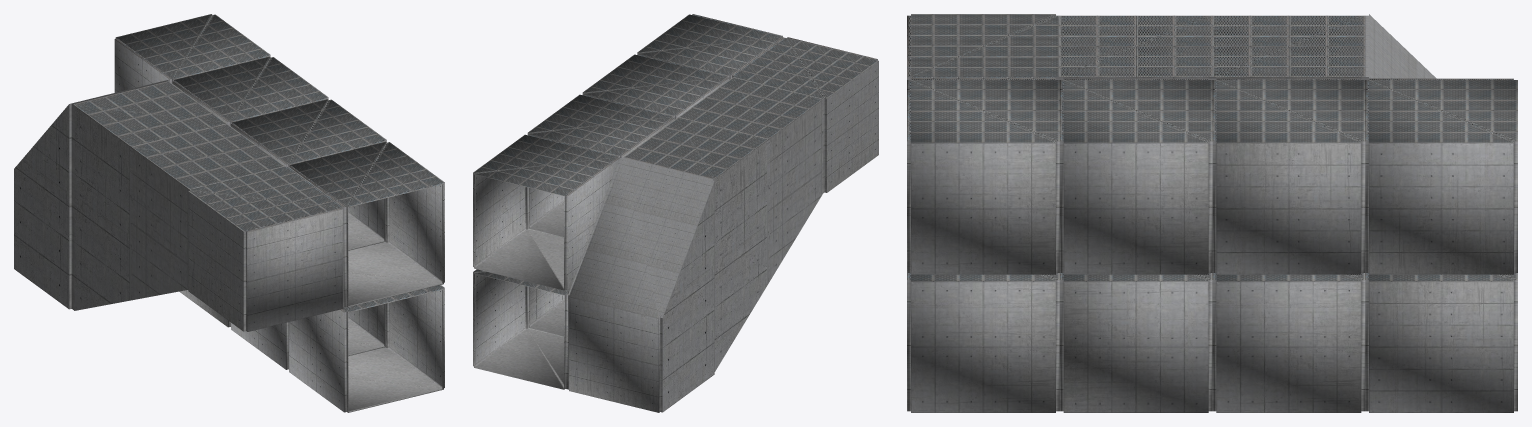
File: StairFloor.fbx
The picture shows the model from 3 angles, left to right: view 1: azimuth 30°, elevation 25°; view 2: azimuth 150°, elevation 25°; view 3: azimuth 270°, elevation 25°; orthographic projection. The views are drawn at different scales.
Parts seen in each view (by area): view 1: Room.003, Room.001, Room.002; view 2: Room.001, Room.003, Room.002; view 3: Room.003, Room.001, Room.002.
Boxes of the visible parts, x1=… form: Room.003: x1=114, y1=14, x2=444, y2=412; Room.001: x1=14, y1=79, x2=284, y2=310; Room.002: x1=188, y1=166, x2=344, y2=331; Room.001: x1=568, y1=77, x2=823, y2=412; Room.003: x1=473, y1=14, x2=783, y2=389; Room.002: x1=732, y1=37, x2=878, y2=192; Room.003: x1=907, y1=78, x2=1517, y2=412; Room.001: x1=1059, y1=14, x2=1436, y2=79; Room.002: x1=907, y1=14, x2=1059, y2=79.
Bounding box in the file's own units: 400 × 390 × 800.
